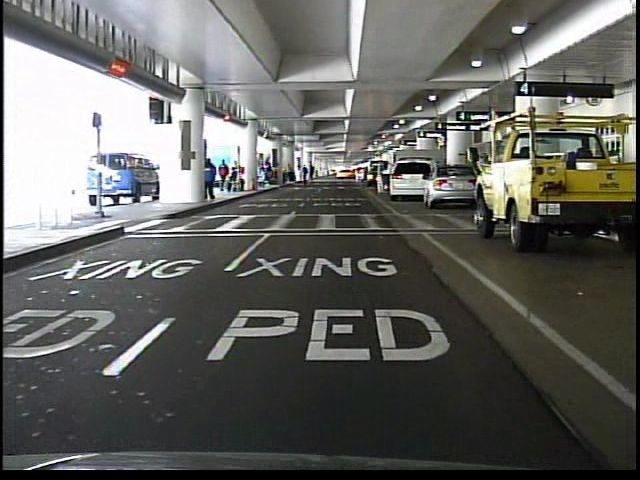person: (201, 154, 220, 204)
